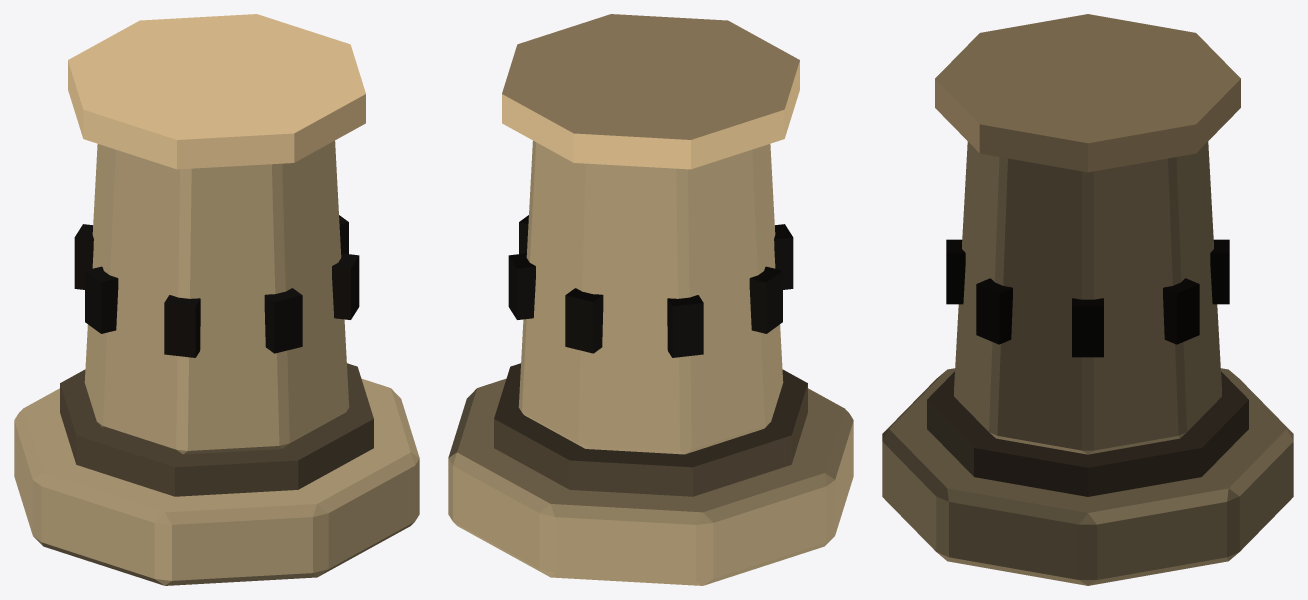
File: great_work_2.obj
3 views of the same model, side by side, from view 1: azimuth 30°, elevation 25°; view 2: azimuth 150°, elevation 25°; view 3: azimuth 270°, elevation 25° (orthographic).
Parts seen in each view (by area): view 1: core_stone, core_white, core_stone_dark, core_window; view 2: core_stone, core_white, core_stone_dark, core_window; view 3: core_stone, core_white, core_stone_dark, core_window.
Boxes of the visible parts, x1,y1,x2,y2 form: core_stone: (14,140,419,585); core_white: (68,14,365,169); core_stone_dark: (60,363,373,496); core_window: (74,215,359,357); core_stone: (448,140,853,585); core_white: (502,14,799,169); core_stone_dark: (494,363,807,496); core_window: (508,215,793,357); core_stone: (882,141,1293,585); core_white: (935,14,1240,172); core_stone_dark: (927,371,1248,496); core_window: (946,239,1229,357).
Size of the model in its own units: 0.2554 by 0.29 by 0.2554.
